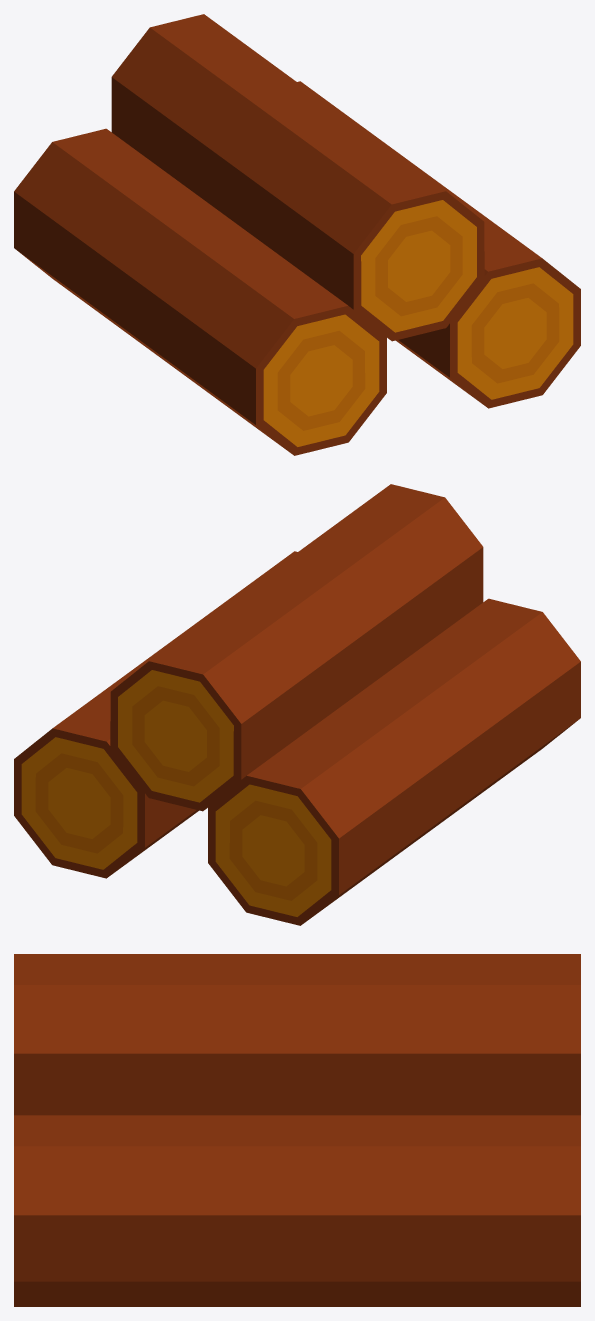
The model's file is Small Log_2.fbx.
3 renders of one model, top to bottom at view 1: azimuth 30°, elevation 25°; view 2: azimuth 150°, elevation 25°; view 3: azimuth 270°, elevation 25°, orthographic. The views are drawn at different scales.
Visible parts, largest first — view 1: Circle.065; view 2: Circle.065; view 3: Circle.065.
Part boxes in pixels (x1,y1,x2,y2): Circle.065: (14, 14, 580, 455); Circle.065: (14, 484, 580, 925); Circle.065: (14, 954, 580, 1306).
Bounding box in the file's own units: 18.25 × 12.23 × 23.54.
